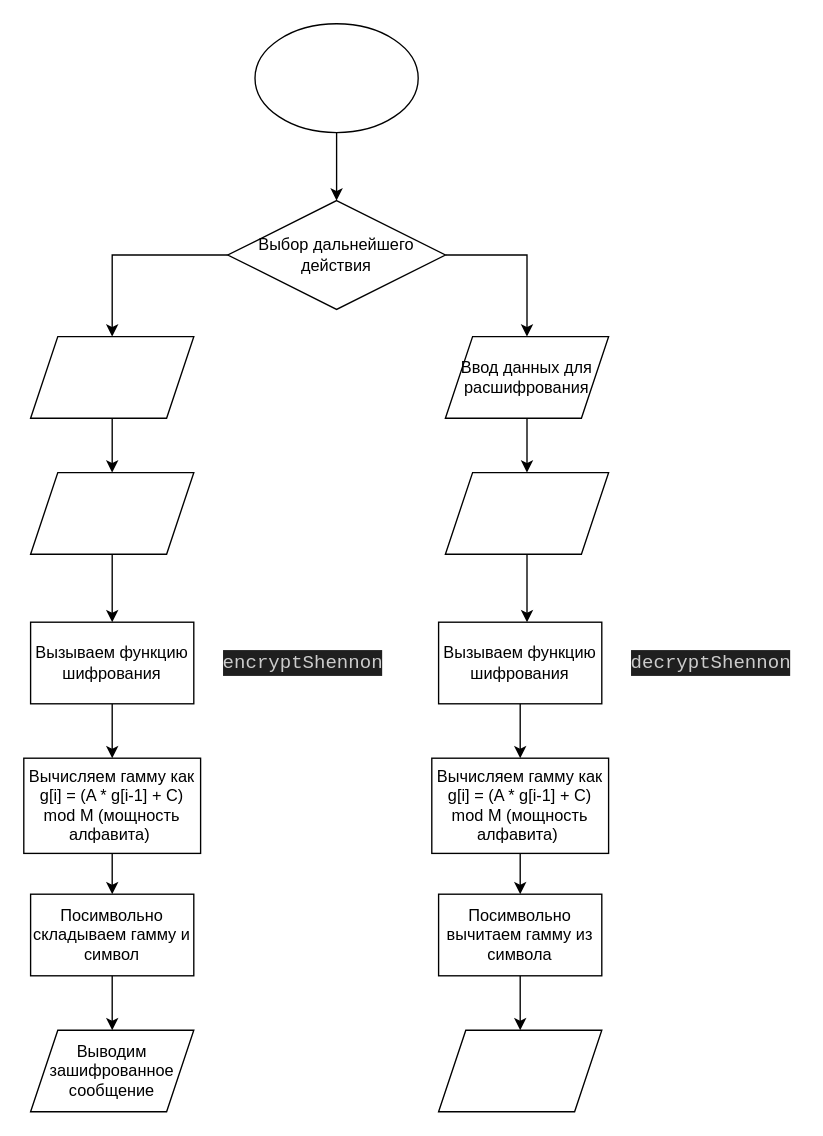
Some shapes in this 823 by 1136 pixel diagram are drawn without their labels. Here are the shapes that lost their labels. From the top down, the centre of each, then its label:
the point at 336,77: Начало
the point at 111,376: Ввод данных для шифрования
the point at 111,512: Нажатие кнопки "Шифровать"
the point at 526,512: Нажатие кнопки "Расшифровать"
the point at 519,1070: Выводим расшифрованное сообщение
